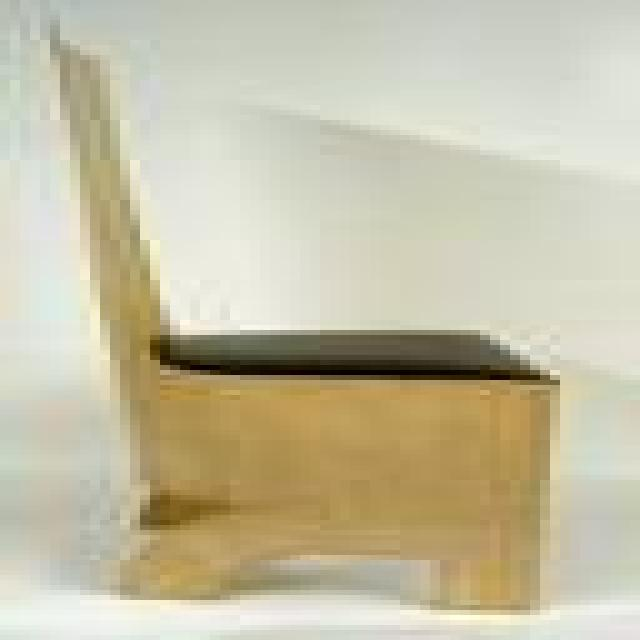chair: (50, 39, 562, 614)
